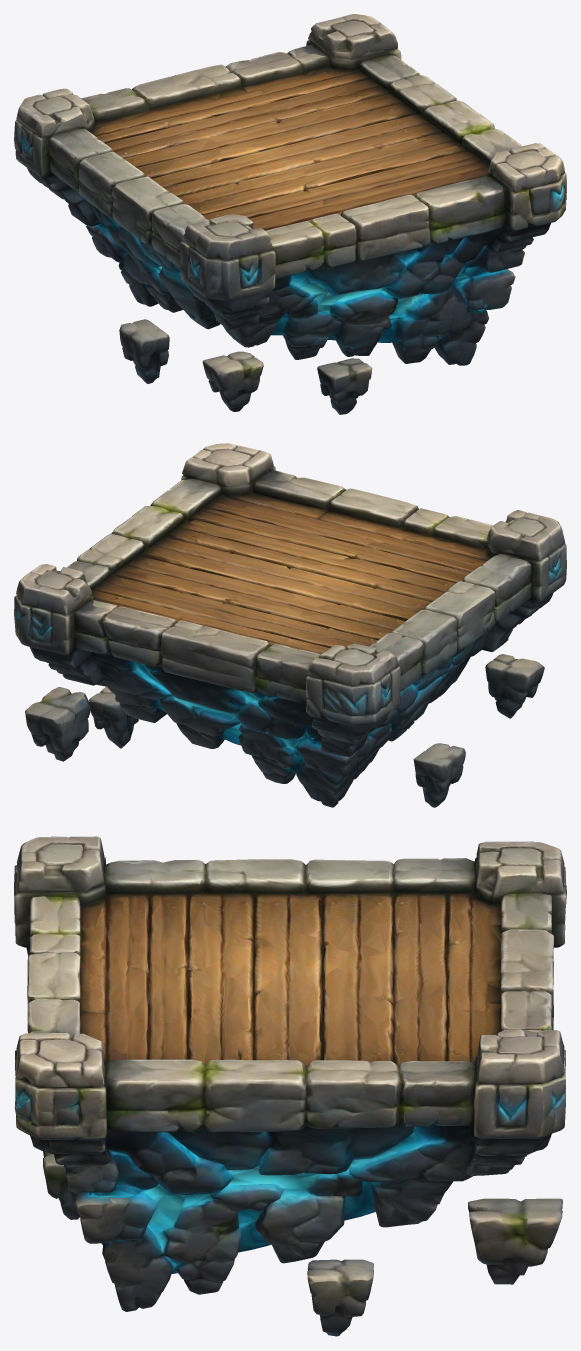
Rendered from Island_Ferry.fbx.
3 renders of one model, top to bottom at view 1: azimuth 30°, elevation 25°; view 2: azimuth 150°, elevation 25°; view 3: azimuth 270°, elevation 25°, orthographic. The views are drawn at different scales.
Parts seen in each view (by area): view 1: Island_Ferry; view 2: Island_Ferry; view 3: Island_Ferry.
Boxes of the visible parts, box(x1,y1,x2,y2) form: Island_Ferry: box(14, 14, 566, 414); Island_Ferry: box(14, 443, 566, 807); Island_Ferry: box(14, 836, 566, 1336).
Bounding box in the file's own units: 600 × 350 × 600.
Materials: 1 (1 with a texture image).
